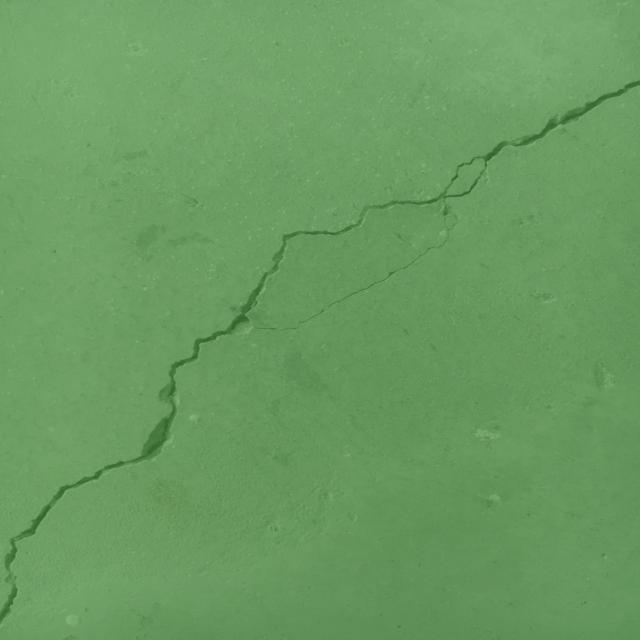crack: (0, 78, 640, 624)
